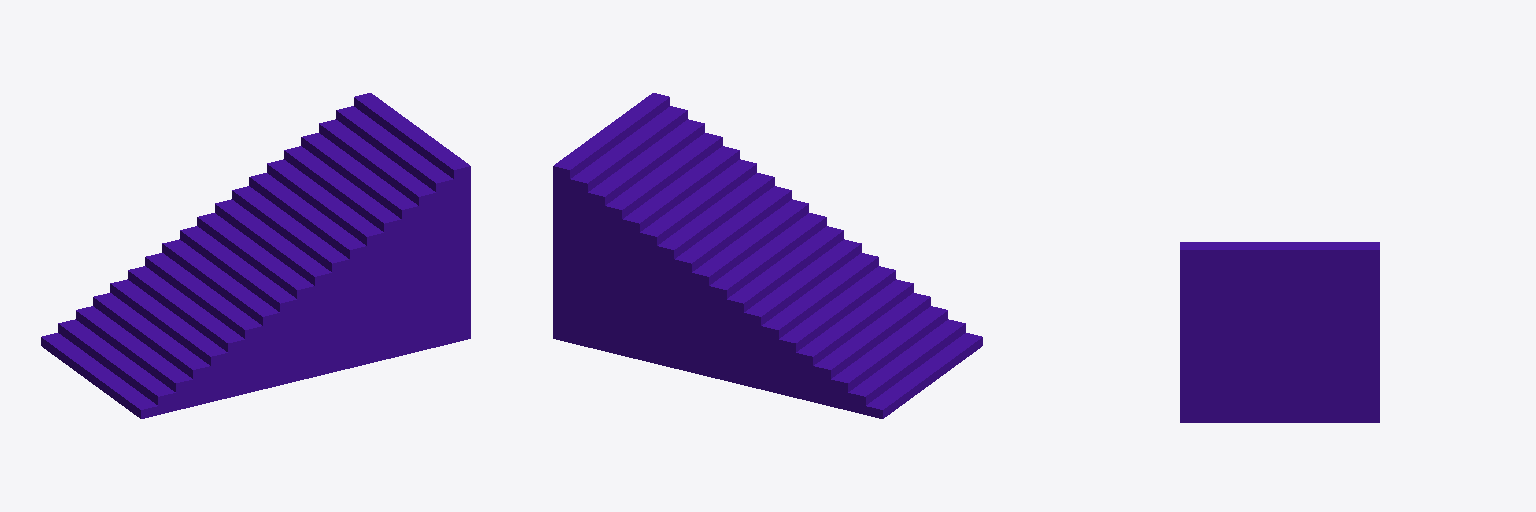
File: Stair128.obj
The picture shows the model from 3 angles: view 1: azimuth 30°, elevation 25°; view 2: azimuth 150°, elevation 25°; view 3: azimuth 270°, elevation 25°; orthographic projection.
Parts seen in each view (by area): view 1: StraightStair001; view 2: StraightStair001; view 3: StraightStair001.
Boxes of the visible parts, x1,y1,x2,y2 form: StraightStair001: [41, 93, 470, 418]; StraightStair001: [553, 93, 982, 418]; StraightStair001: [1180, 242, 1379, 422].
Size of the model in its own units: 122 by 60.8 by 64.